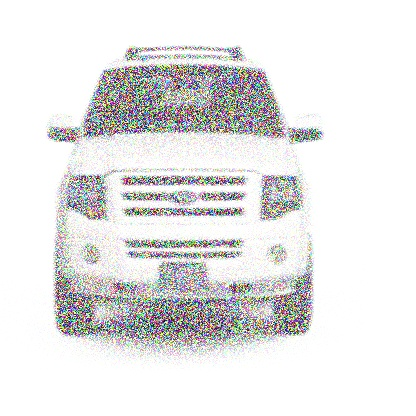Vehicle: (34, 33, 330, 348)
